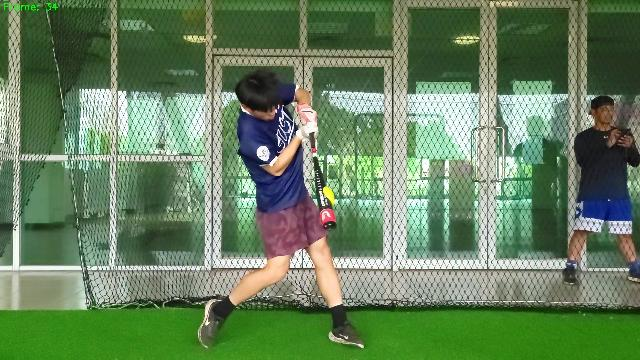baseball bat: (308, 132, 338, 229)
